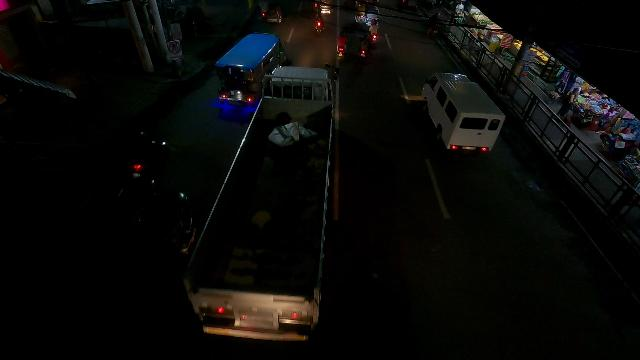jeepney: (215, 32, 286, 107)
motorcycle: (337, 31, 347, 58), (369, 19, 379, 44)
truck: (184, 66, 336, 341)
van: (422, 73, 506, 153)
